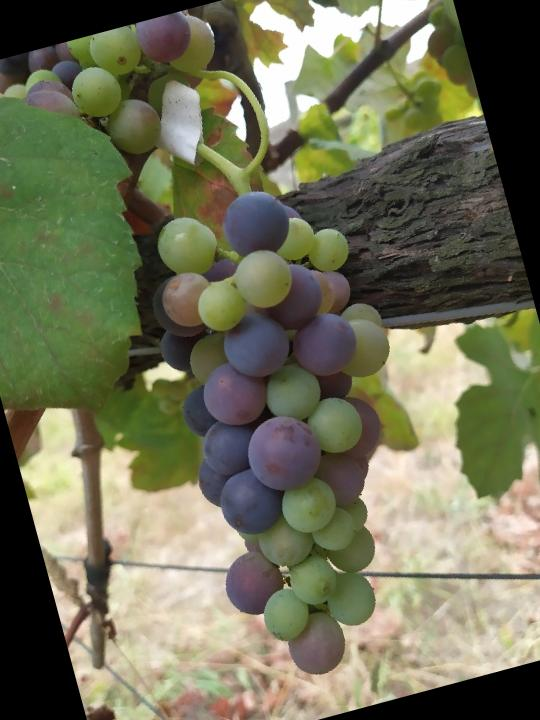grape: (122, 163, 472, 698)
